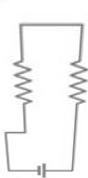resistor: (11, 54, 40, 112), (64, 51, 87, 108)
